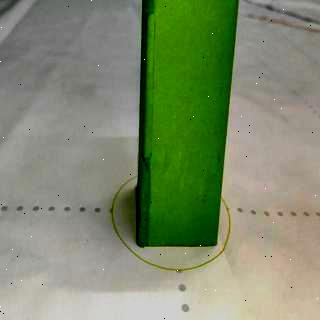greenbox: (139, 1, 240, 250)
